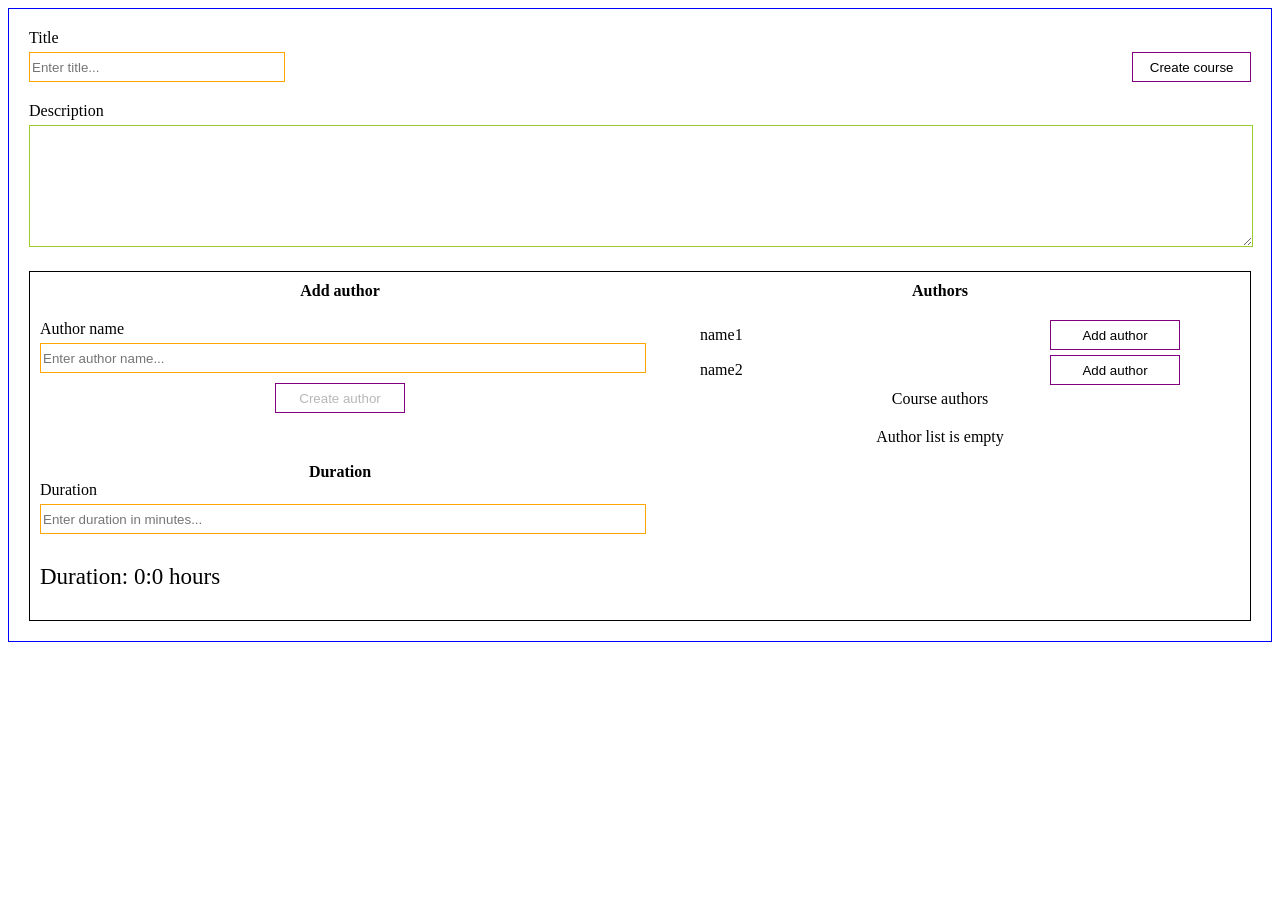
Scenario: CourseForm component › Delete author button click should delete an author from the course list
Click the button with test id "addButton1". click: (1115, 370)
box: x1=1050 y1=355 x2=1180 y2=385
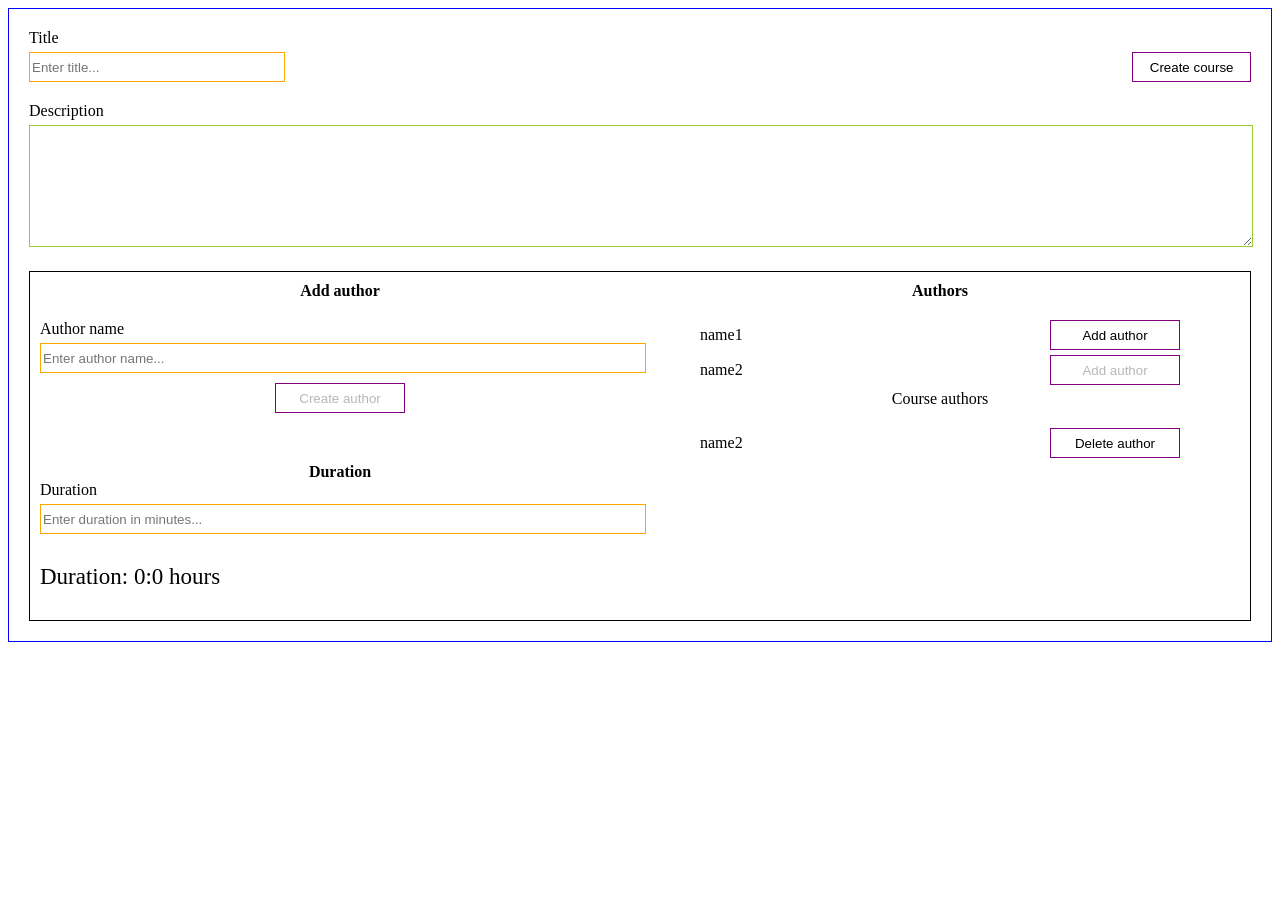
Click the button with test id "deleteButton0". click: (1115, 443)
box: x1=1050 y1=428 x2=1180 y2=458
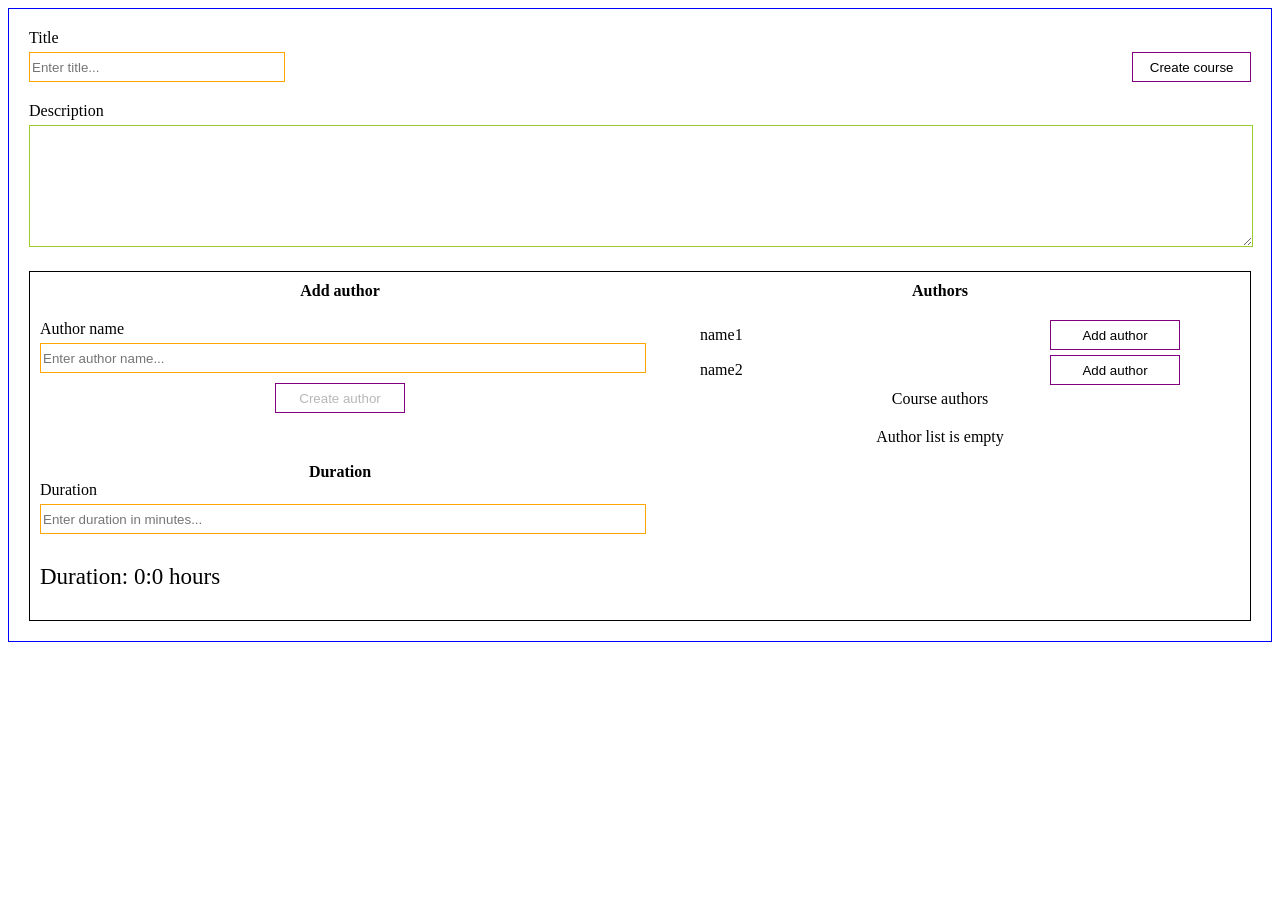
Check: the list item with test id "coursesAuthorsList" is gone
